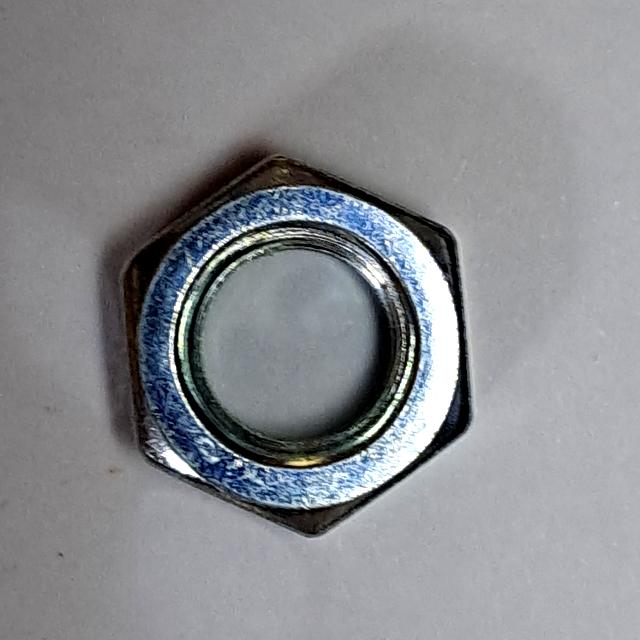Excellent: (111, 141, 486, 551)
